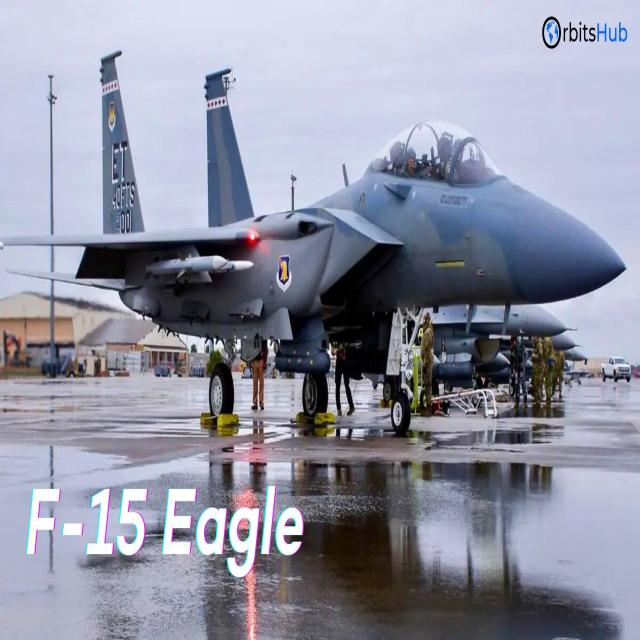F15: (46, 45, 640, 491)
